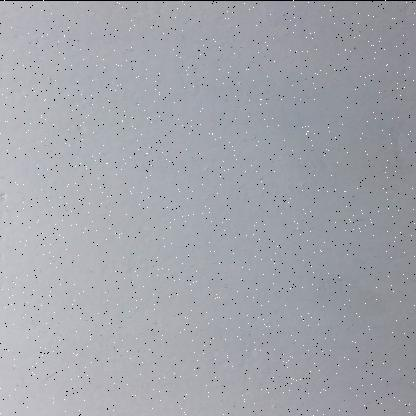Nocrack: (23, 30, 388, 390)
